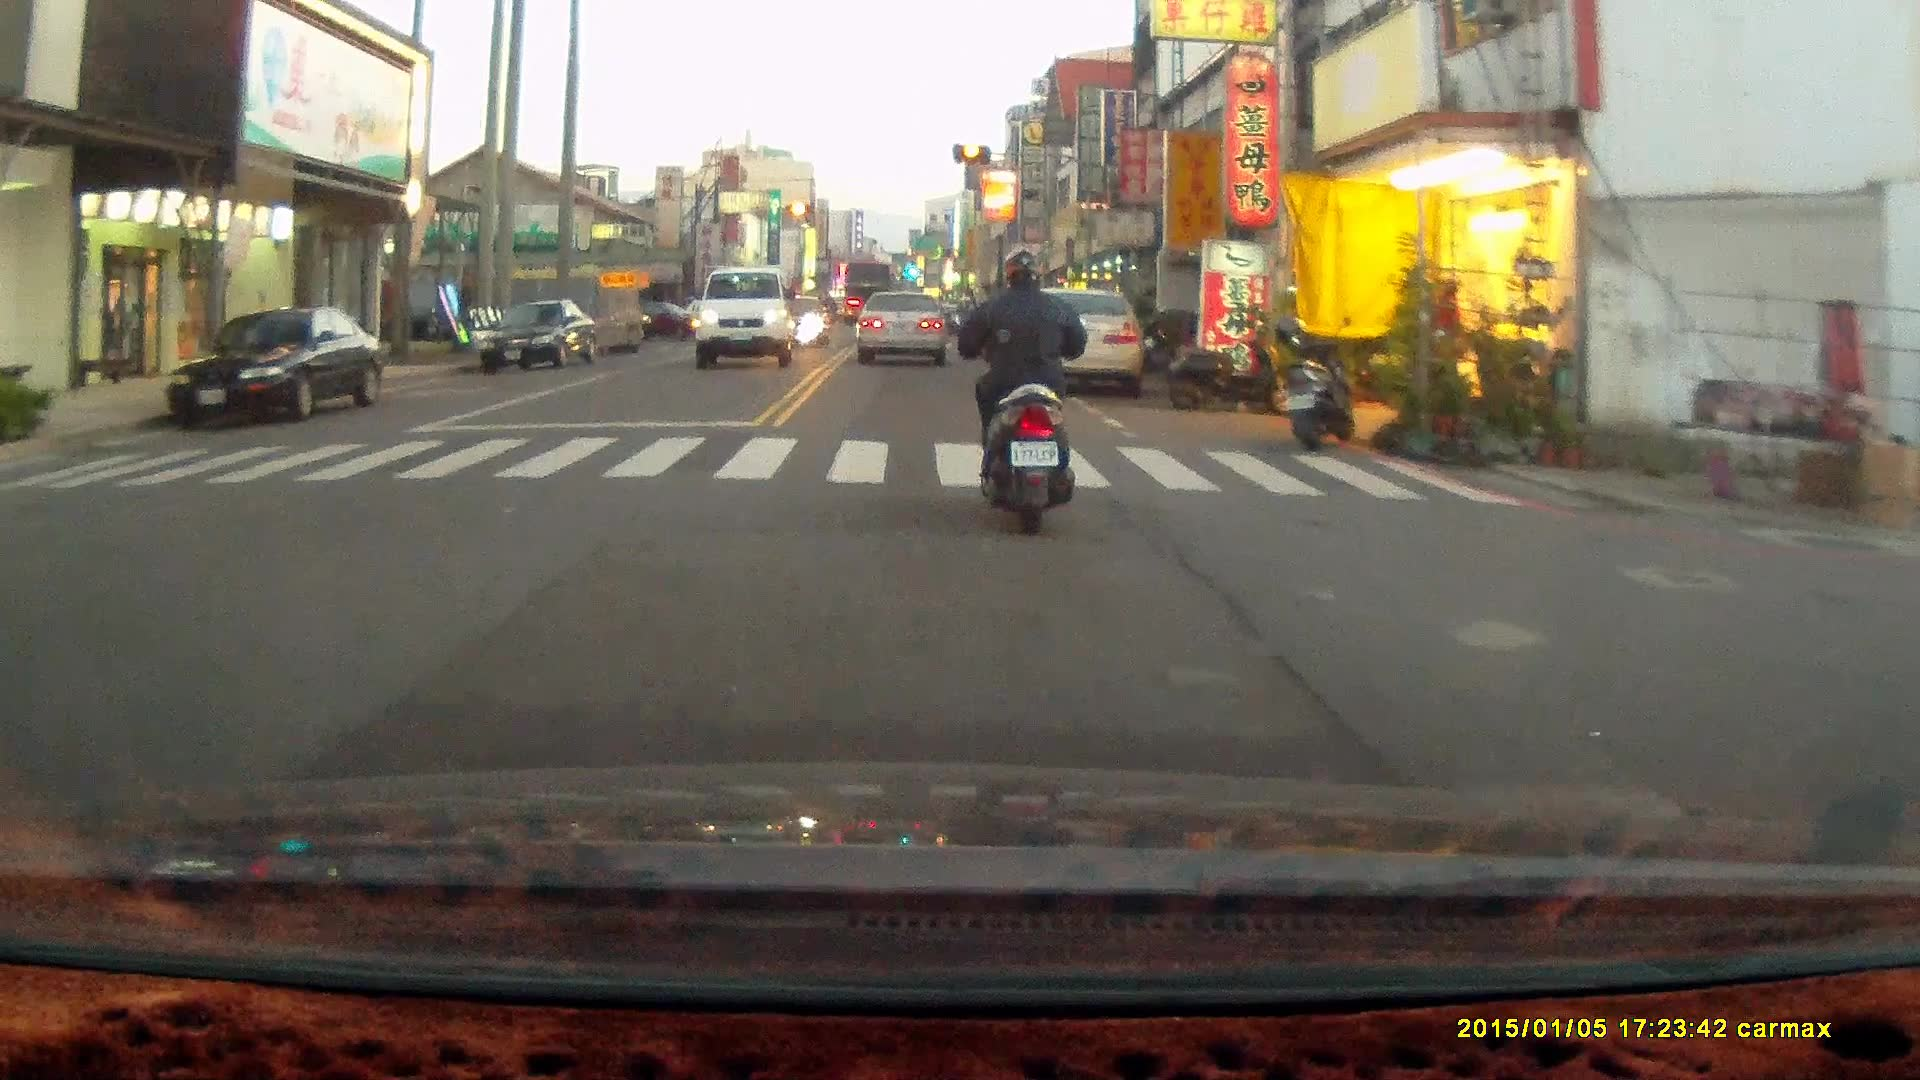pedestrian: (1431, 278, 1465, 394)
rider: (956, 250, 1089, 539)
vehicle: (159, 314, 382, 431), (1018, 291, 1150, 402), (694, 268, 799, 373), (480, 301, 599, 381), (860, 293, 958, 367)
